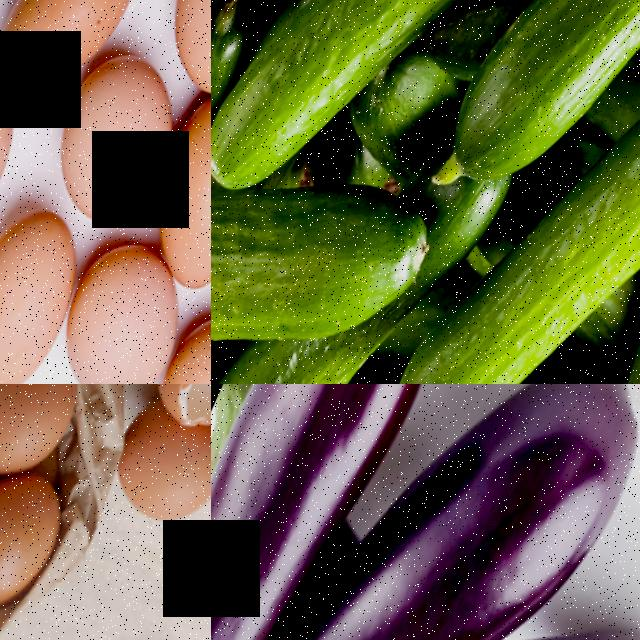cucumber: (376, 145, 640, 384), (211, 0, 477, 236), (211, 119, 443, 384), (435, 0, 640, 244)
egg_: (33, 44, 211, 242), (42, 238, 211, 384), (0, 198, 111, 384), (0, 0, 162, 121), (127, 97, 211, 309), (99, 403, 211, 549), (0, 464, 86, 632), (0, 384, 101, 493), (0, 59, 46, 283), (135, 0, 211, 119)
eggplant: (341, 384, 640, 640), (211, 384, 458, 640)
